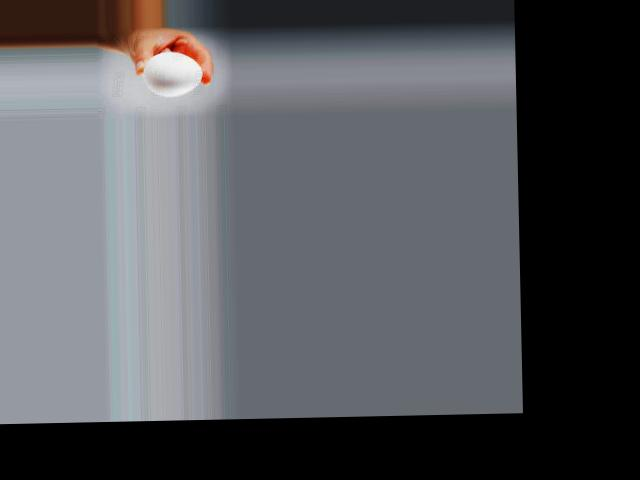egg: (144, 51, 203, 96)
